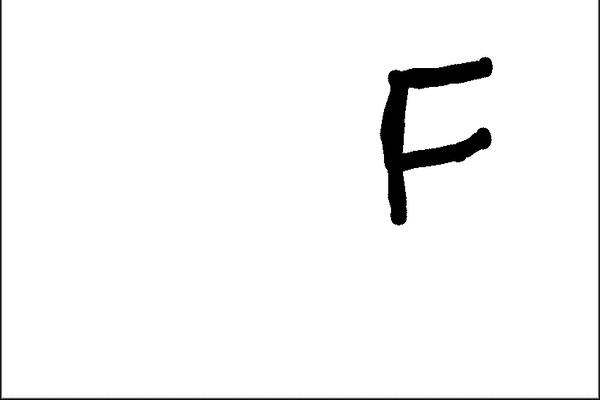F: (374, 53, 500, 227)
